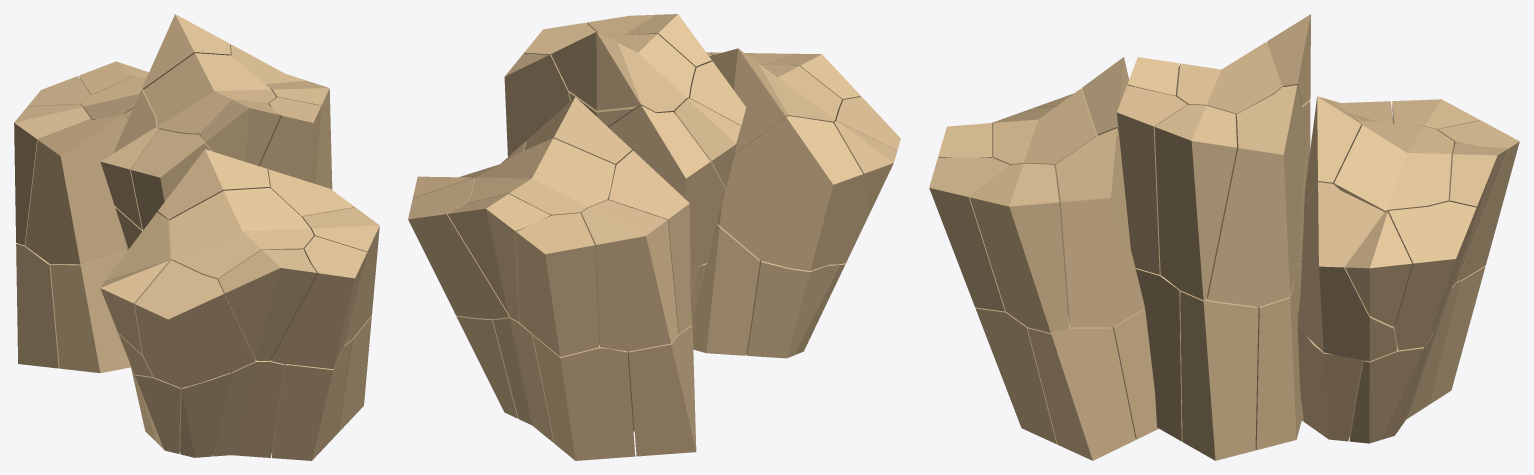
File: brokenbackdrop.fbx
3 renders of one model, left to right at view 1: azimuth 30°, elevation 25°; view 2: azimuth 150°, elevation 25°; view 3: azimuth 270°, elevation 25°, orthographic. The views are drawn at different scales.
Parts seen in each view (by area): view 1: pasted__pPlatonic3.003_cell.015, pasted__pPlatonic3.002_cell.008, pasted__pPlatonic3.002_cell.007, pasted__pPlatonic3.002_cell.011, pasted__pPlatonic3.003_cell.016, pasted__pPlatonic3.002_cell.009, pasted__pPlatonic3.001_cell.007, pasted__pPlatonic3.002_cell.001, pasted__pPlatonic3.002_cell.002, pasted__pPlatonic3.003_cell, pasted__pPlatonic3.001_cell.008, pasted__pPlatonic3.001_cell.011 (+19 smaller); view 2: pasted__pPlatonic3.002_cell.012, pasted__pPlatonic3.003_cell.013, pasted__pPlatonic3.003_cell.011, pasted__pPlatonic3.003_cell.001, pasted__pPlatonic3.001_cell.012, pasted__pPlatonic3.003_cell.007, pasted__pPlatonic3.003_cell, pasted__pPlatonic3.003_cell.008, pasted__pPlatonic3.002_cell.006, pasted__pPlatonic3.002_cell.005, pasted__pPlatonic3.003_cell.009, pasted__pPlatonic3.003_cell.015 (+18 smaller); view 3: pasted__pPlatonic3.001_cell.015, pasted__pPlatonic3.002_cell.015, pasted__pPlatonic3.001_cell.013, pasted__pPlatonic3.002_cell.013, pasted__pPlatonic3.001_cell, pasted__pPlatonic3.003_cell.012, pasted__pPlatonic3.002_cell, pasted__pPlatonic3.003_cell.007, pasted__pPlatonic3.003_cell.008, pasted__pPlatonic3.001_cell.011, pasted__pPlatonic3.001_cell.016, pasted__pPlatonic3.002_cell.011 (+20 smaller).
Boxes of the visible parts, x1=… form: pasted__pPlatonic3.003_cell.015: x1=25, y1=114, x2=127, y2=264; pasted__pPlatonic3.002_cell.008: x1=134, y1=260, x2=255, y2=388; pasted__pPlatonic3.002_cell.007: x1=169, y1=188, x2=313, y2=359; pasted__pPlatonic3.002_cell.011: x1=270, y1=236, x2=367, y2=369; pasted__pPlatonic3.003_cell.016: x1=50, y1=250, x2=130, y2=373; pasted__pPlatonic3.002_cell.009: x1=218, y1=249, x2=317, y2=360; pasted__pPlatonic3.001_cell.007: x1=143, y1=53, x2=275, y2=138; pasted__pPlatonic3.002_cell.001: x1=271, y1=340, x2=352, y2=460; pasted__pPlatonic3.002_cell.002: x1=213, y1=359, x2=284, y2=457; pasted__pPlatonic3.003_cell: x1=16, y1=243, x2=59, y2=368; pasted__pPlatonic3.001_cell.008: x1=131, y1=129, x2=212, y2=229; pasted__pPlatonic3.001_cell.011: x1=258, y1=97, x2=321, y2=183; pasted__pPlatonic3.002_cell.012: x1=717, y1=116, x2=867, y2=270; pasted__pPlatonic3.003_cell.013: x1=581, y1=200, x2=678, y2=351; pasted__pPlatonic3.003_cell.011: x1=516, y1=213, x2=598, y2=356; pasted__pPlatonic3.003_cell.001: x1=532, y1=334, x2=635, y2=460; pasted__pPlatonic3.001_cell.012: x1=609, y1=105, x2=725, y2=270; pasted__pPlatonic3.003_cell.007: x1=467, y1=138, x2=615, y2=215; pasted__pPlatonic3.003_cell: x1=628, y1=325, x2=696, y2=456; pasted__pPlatonic3.003_cell.008: x1=408, y1=177, x2=509, y2=319; pasted__pPlatonic3.002_cell.006: x1=692, y1=224, x2=759, y2=355; pasted__pPlatonic3.002_cell.005: x1=746, y1=260, x2=837, y2=358; pasted__pPlatonic3.003_cell.009: x1=447, y1=194, x2=550, y2=321; pasted__pPlatonic3.003_cell.015: x1=609, y1=151, x2=692, y2=333; pasted__pPlatonic3.001_cell.015: x1=1207, y1=85, x2=1305, y2=306; pasted__pPlatonic3.002_cell.015: x1=1055, y1=128, x2=1144, y2=327; pasted__pPlatonic3.001_cell.013: x1=1154, y1=104, x2=1236, y2=300; pasted__pPlatonic3.002_cell.013: x1=969, y1=163, x2=1068, y2=332; pasted__pPlatonic3.001_cell: x1=1180, y1=291, x2=1258, y2=460; pasted__pPlatonic3.003_cell.012: x1=1297, y1=182, x2=1397, y2=361; pasted__pPlatonic3.002_cell: x1=1027, y1=316, x2=1135, y2=460; pasted__pPlatonic3.003_cell.007: x1=1304, y1=114, x2=1454, y2=211; pasted__pPlatonic3.003_cell.008: x1=1388, y1=201, x2=1476, y2=350; pasted__pPlatonic3.001_cell.011: x1=1117, y1=85, x2=1187, y2=274; pasted__pPlatonic3.001_cell.016: x1=1255, y1=266, x2=1302, y2=450; pasted__pPlatonic3.002_cell.011: x1=929, y1=157, x2=1010, y2=311.
Bounding box in the file's own units: 6519 × 6939 × 9094.
